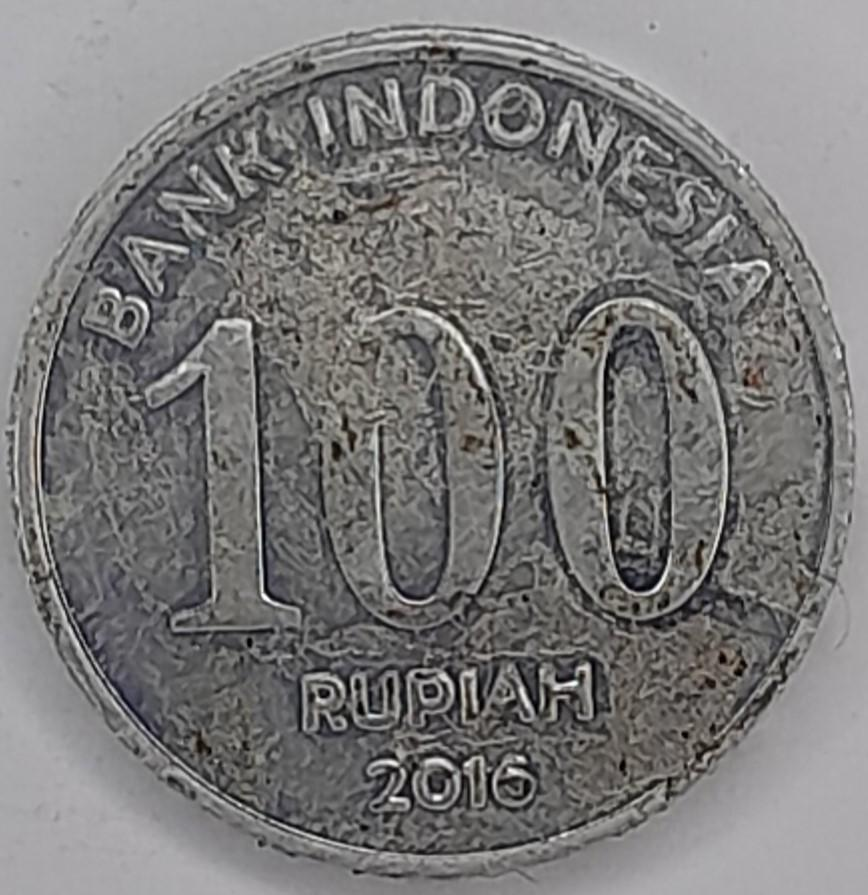coin_100_e2016: (1, 18, 863, 882)
